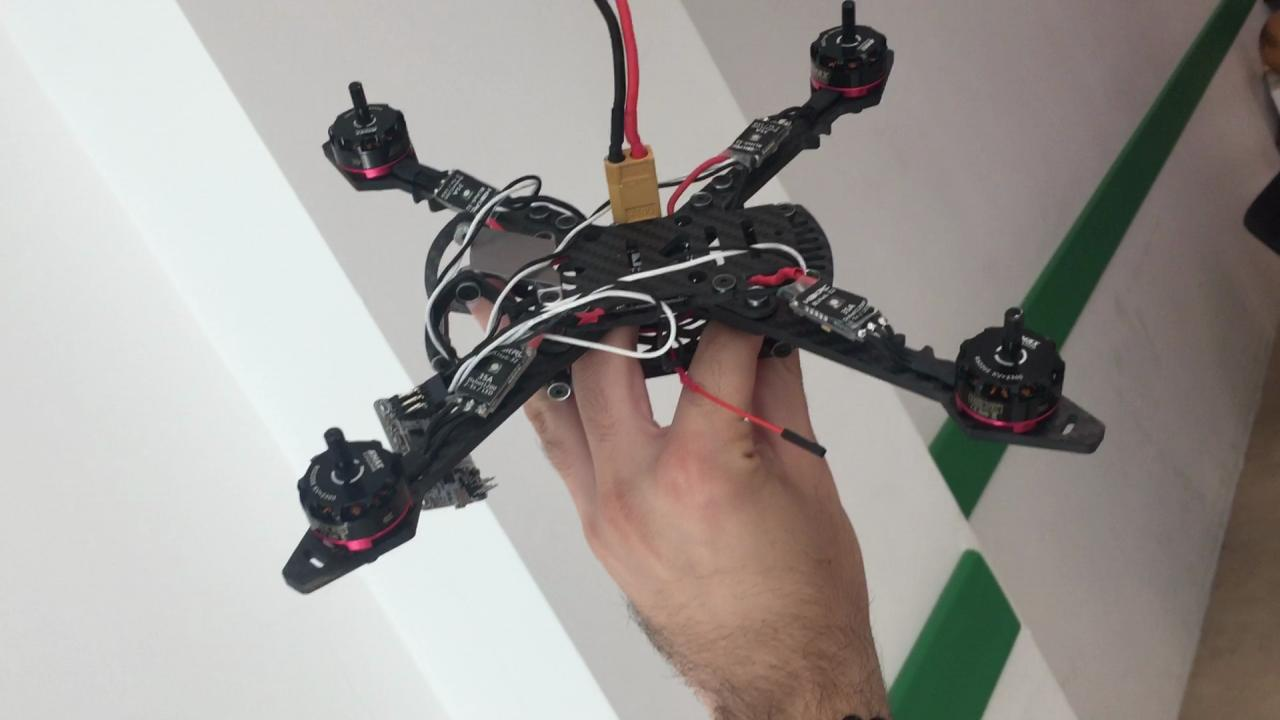Drone: (266, 0, 1109, 604)
